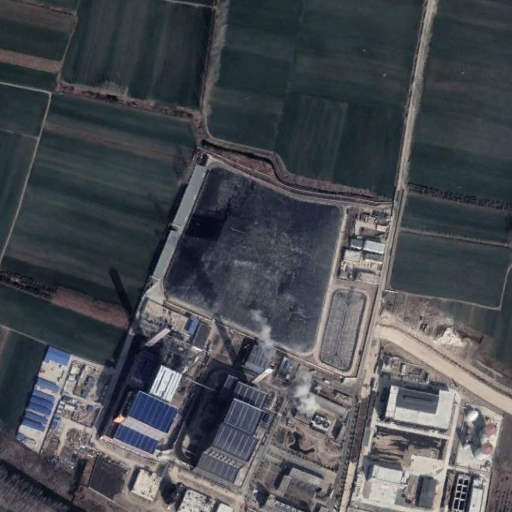lf: (167, 163, 342, 362)
